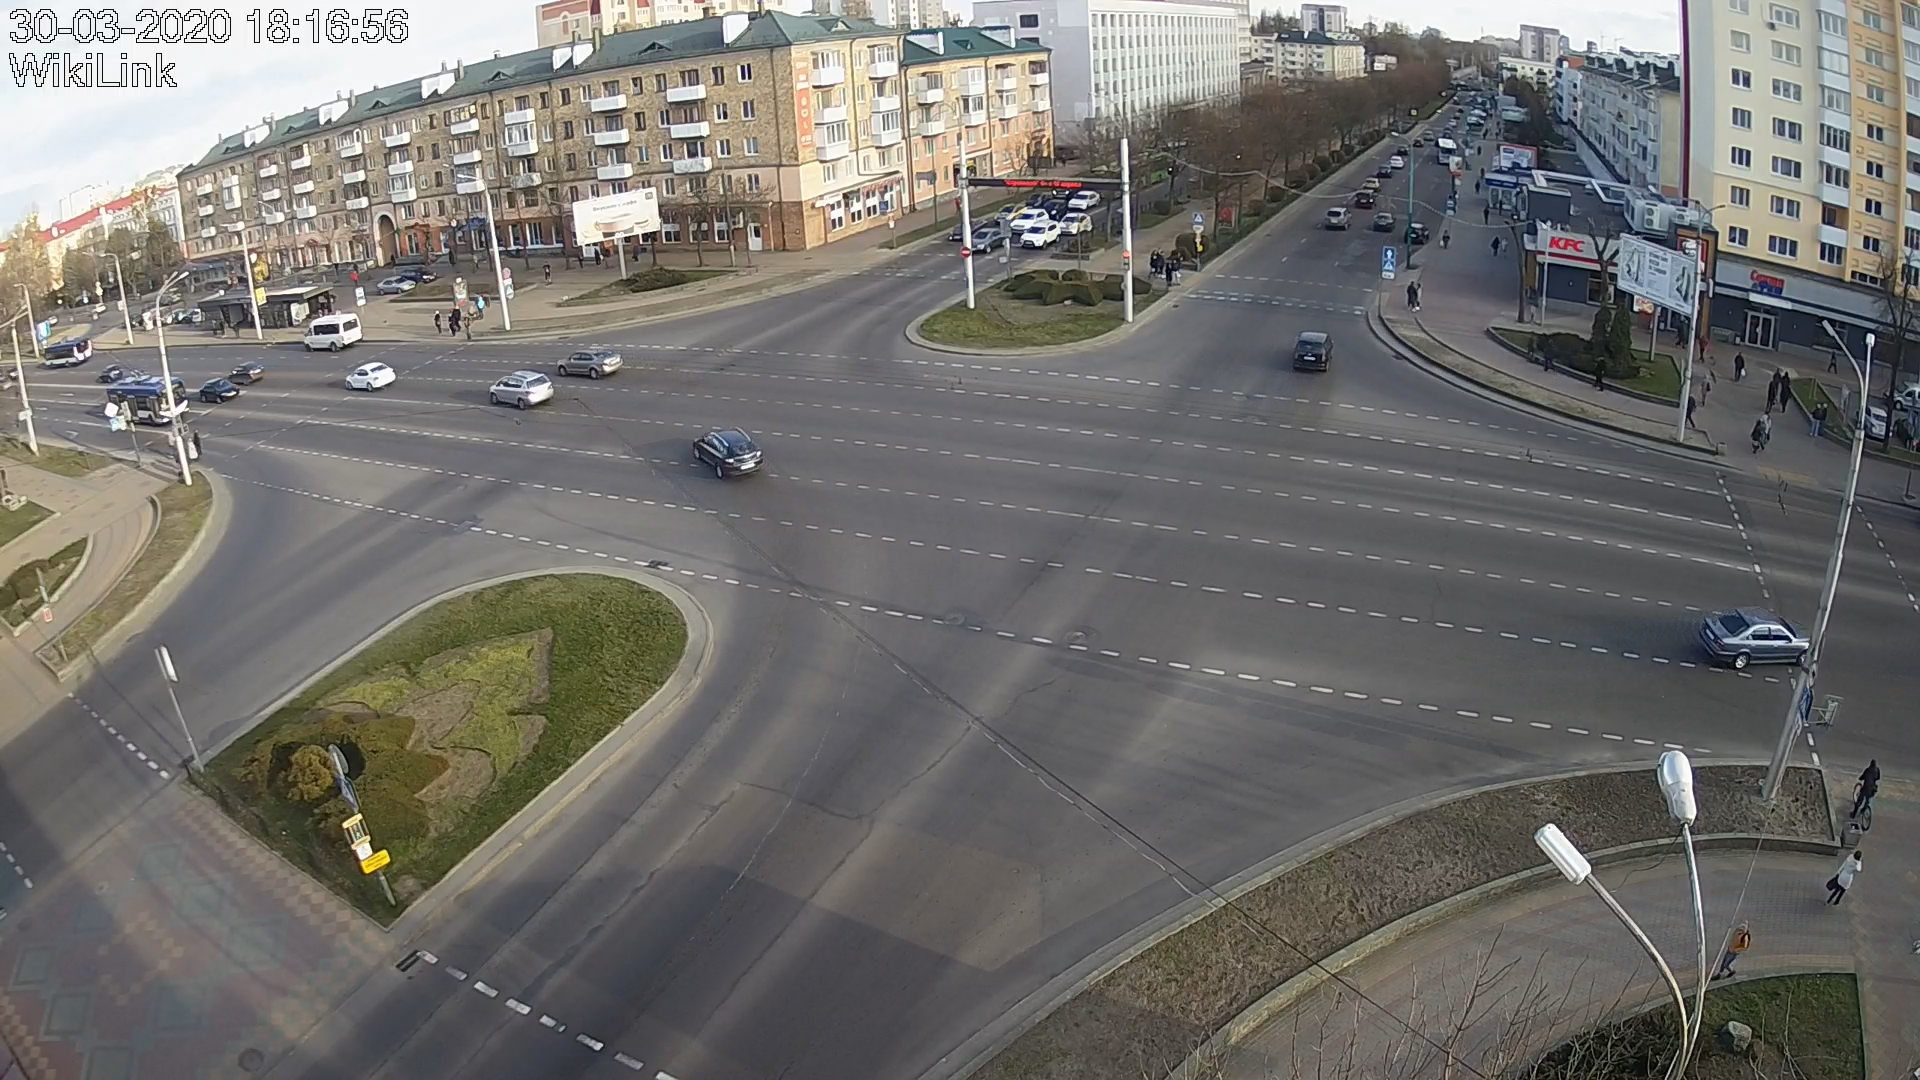bus: (107, 376, 189, 426)
car: (1698, 607, 1812, 671), (694, 429, 764, 479), (489, 371, 555, 410), (305, 313, 363, 352), (556, 349, 624, 378), (1292, 331, 1335, 373), (345, 363, 396, 392), (1019, 220, 1062, 251), (1010, 208, 1048, 233), (200, 378, 239, 404), (972, 227, 1006, 253), (949, 218, 988, 240), (229, 361, 264, 385), (1059, 214, 1091, 235)
